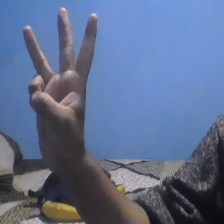W: (20, 5, 101, 170)
